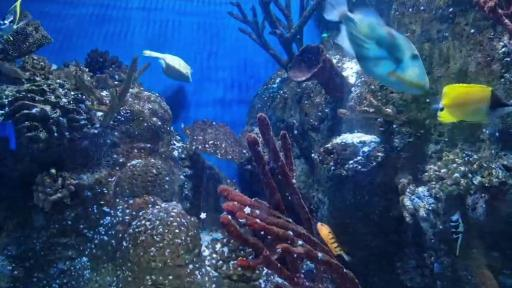Fish: (323, 0, 429, 94), (437, 83, 512, 123), (143, 50, 191, 82), (317, 223, 351, 261), (1, 0, 26, 37)
